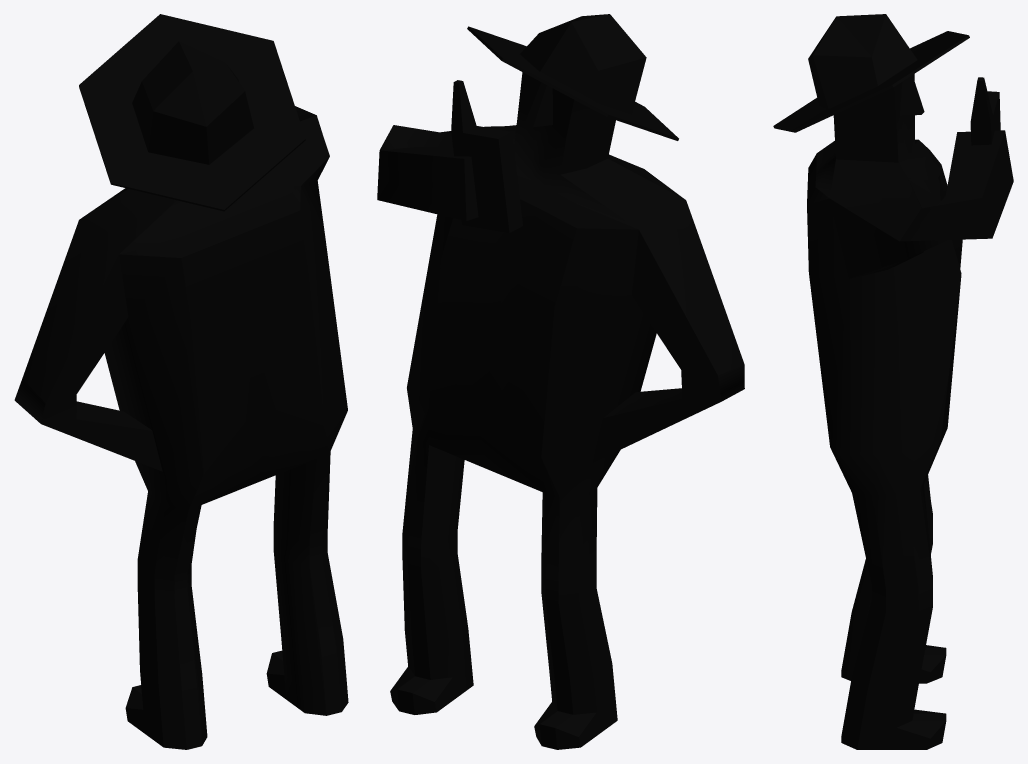
The model's file is rangerB_mesh.fbx.
3 renders of one model, left to right at view 1: azimuth 30°, elevation 25°; view 2: azimuth 150°, elevation 25°; view 3: azimuth 270°, elevation 25°, orthographic. The views are drawn at different scales.
Parts seen in each view (by area): view 1: rangerB; view 2: rangerB; view 3: rangerB.
Part boxes in pixels (x1,y1,x2,y2): rangerB: (14, 14, 348, 749); rangerB: (377, 14, 744, 749); rangerB: (773, 14, 1013, 749).
Bounding box in the file's own units: 0.5604 × 1.17 × 0.3862.
